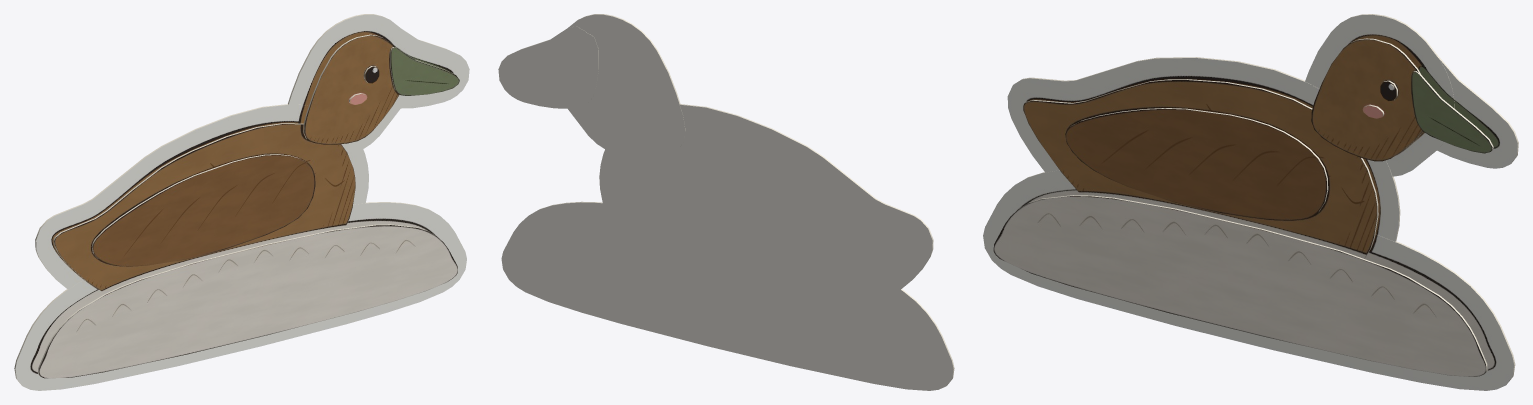
File: eider.glb
The picture shows the model from 3 angles, left to right: view 1: azimuth 30°, elevation 25°; view 2: azimuth 150°, elevation 25°; view 3: azimuth 330°, elevation 25°; orthographic projection. The views are drawn at different scales.
Visible parts, largest first — view 1: eider.001; view 2: eider.001; view 3: eider.001.
Part boxes in pixels (x1=…): eider.001: x1=14, y1=14, x2=469, y2=390; eider.001: x1=498, y1=14, x2=954, y2=390; eider.001: x1=983, y1=14, x2=1518, y2=390.
Size of the model in its own units: 0.9683 by 0.6243 by 0.0316.
3 materials, 1 textured.
